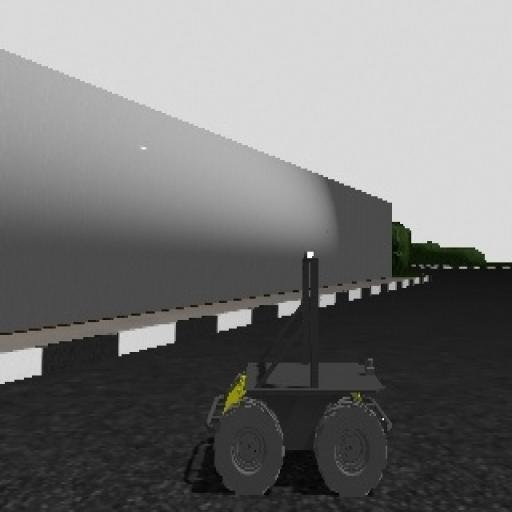huskya200: (190, 218, 401, 503)
